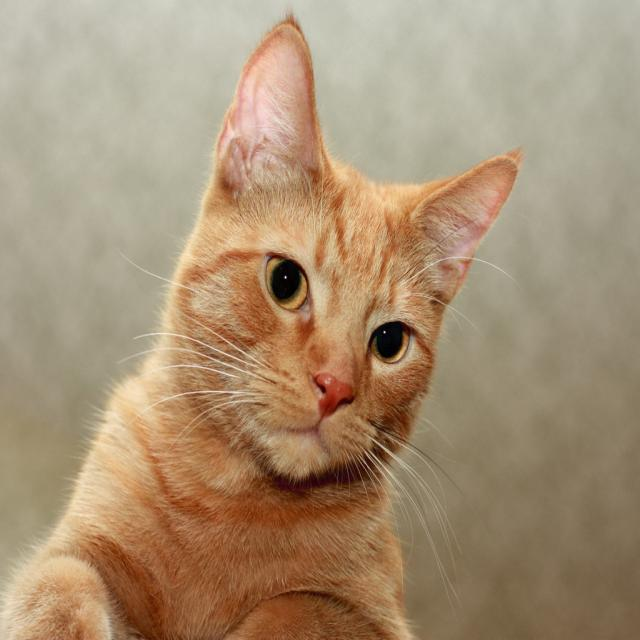Cat: (0, 2, 535, 640)
